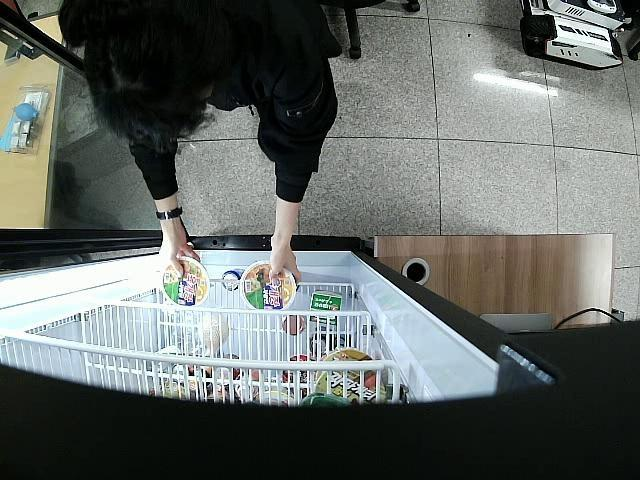09_yukGaeJang: (240, 260, 296, 309), (162, 257, 209, 308)
